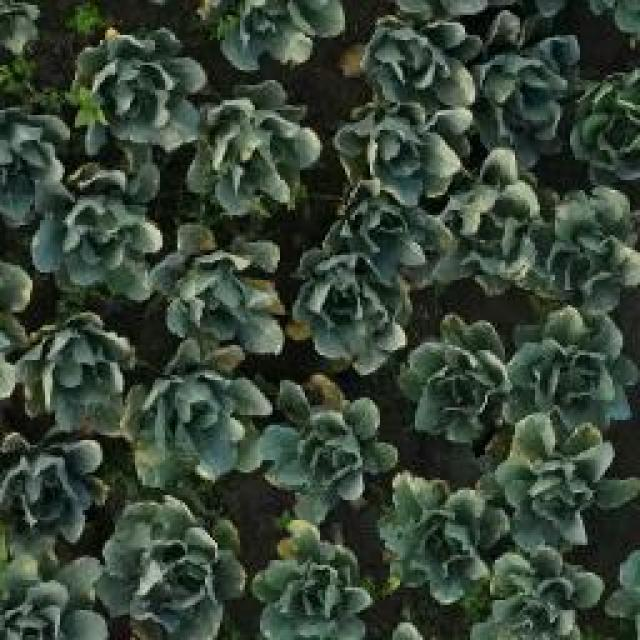cabbage: (100, 493, 250, 640), (129, 353, 270, 486), (188, 82, 314, 219), (36, 167, 160, 304), (378, 471, 509, 600), (508, 298, 632, 432), (493, 416, 621, 544), (292, 243, 413, 375), (80, 26, 198, 153), (160, 231, 278, 355), (250, 522, 372, 640), (401, 316, 512, 442), (0, 428, 111, 554), (16, 311, 133, 430), (451, 148, 545, 292), (330, 180, 450, 289), (270, 387, 380, 505), (360, 8, 478, 114), (482, 543, 612, 637), (474, 24, 575, 144), (546, 180, 640, 305), (0, 531, 107, 640), (334, 101, 454, 195), (560, 58, 640, 178), (209, 0, 345, 70), (0, 106, 77, 223)
